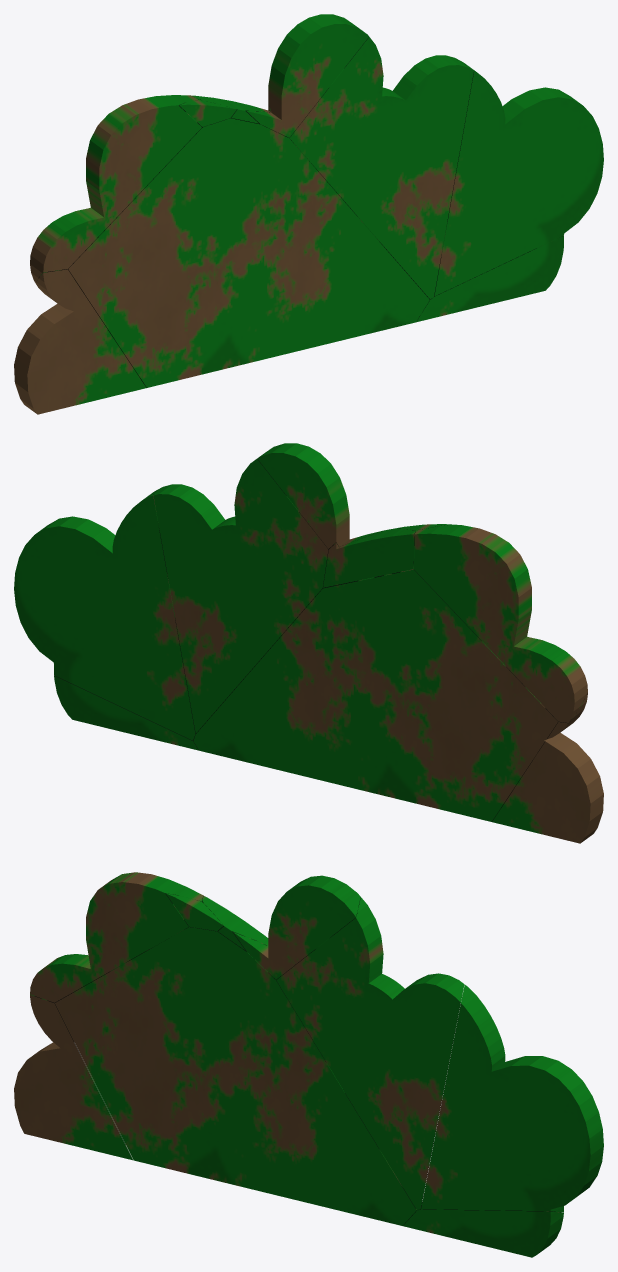
The model's file is Arbusto4.fbx.
3 renders of one model, top to bottom at view 1: azimuth 30°, elevation 25°; view 2: azimuth 150°, elevation 25°; view 3: azimuth 330°, elevation 25°, orthographic.
Parts seen in each view (by area): view 1: arbusto 4_cell.008, arbusto 4_cell.005, arbusto 4_cell.003, arbusto 4_cell.007, arbusto 4_cell.001, arbusto 4_cell.002, arbusto 4_cell.009, arbusto 4_cell, arbusto 4_cell.006; view 2: arbusto 4_cell.008, arbusto 4_cell.003, arbusto 4_cell.005, arbusto 4_cell.007, arbusto 4_cell.001, arbusto 4_cell.002, arbusto 4_cell.006, arbusto 4_cell.009; view 3: arbusto 4_cell.008, arbusto 4_cell.005, arbusto 4_cell.003, arbusto 4_cell.007, arbusto 4_cell.001, arbusto 4_cell.002, arbusto 4_cell.009, arbusto 4_cell.006, arbusto 4_cell.
Part boxes in pixels (x1,y1,x2,y2): arbusto 4_cell.008: (68,118,429,387); arbusto 4_cell.005: (287,23,473,299); arbusto 4_cell.003: (434,57,603,296); arbusto 4_cell.007: (30,95,201,283); arbusto 4_cell.001: (14,269,146,414); arbusto 4_cell.002: (246,14,368,137); arbusto 4_cell.009: (416,235,563,322); arbusto 4_cell: (179,99,236,126); arbusto 4_cell.006: (190,95,271,127); arbusto 4_cell.008: (193,567,558,821); arbusto 4_cell.003: (14,490,195,740); arbusto 4_cell.005: (153,458,328,733); arbusto 4_cell.007: (414,524,587,722); arbusto 4_cell.001: (492,692,603,843); arbusto 4_cell.002: (257,443,384,548); arbusto 4_cell.006: (323,528,415,587); arbusto 4_cell.009: (54,675,198,750); arbusto 4_cell.008: (55,927,422,1225); arbusto 4_cell.005: (276,897,464,1210); arbusto 4_cell.003: (421,984,603,1212); arbusto 4_cell.007: (30,872,203,1010); arbusto 4_cell.001: (14,995,132,1160); arbusto 4_cell.002: (233,875,360,979); arbusto 4_cell.009: (403,1209,563,1257); arbusto 4_cell.006: (202,895,268,952); arbusto 4_cell: (166,893,223,931).
Size of the model in its own units: 442 by 233 by 17.73.
